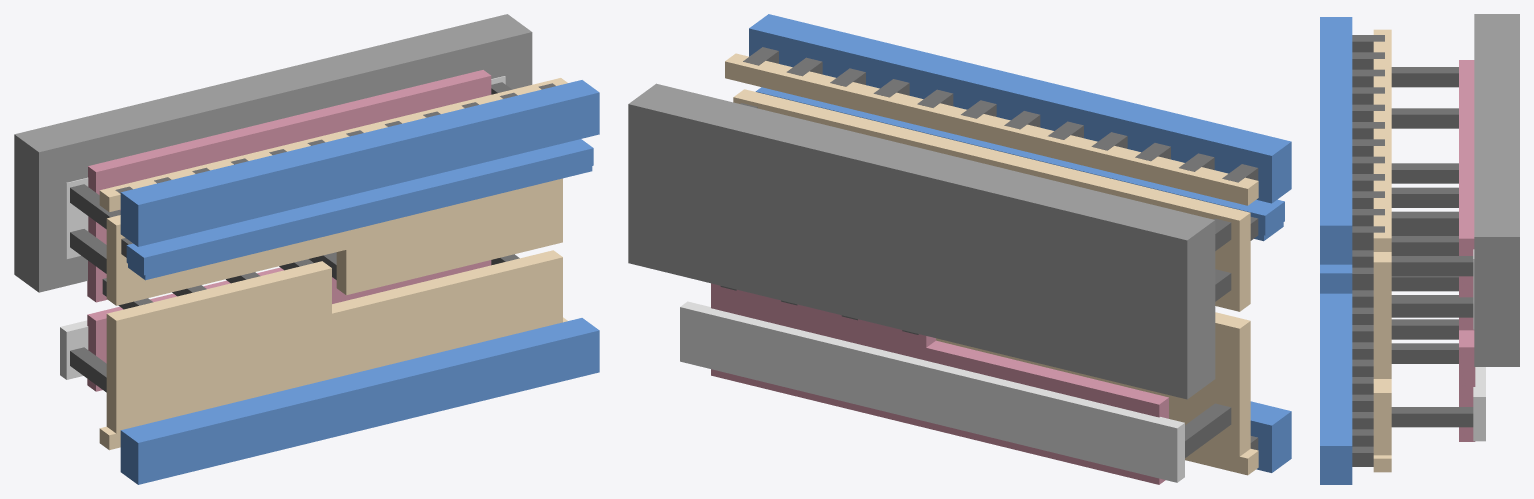
File: sky130_fd_sc_hd__lpflow_decapkapwr_12.gds.gltf
The picture shows the model from 3 angles, left to right: view 1: azimuth 30°, elevation 25°; view 2: azimuth 150°, elevation 25°; view 3: azimuth 270°, elevation 25°; orthographic projection. The views are drawn at different scales.
Parts seen in each view (by area): view 1: sky130_fd_sc_hd__lpflow_decapkapwr_12_met1, sky130_fd_sc_hd__lpflow_decapkapwr_12_li1, sky130_fd_sc_hd__lpflow_decapkapwr_12_nwell, sky130_fd_sc_hd__lpflow_decapkapwr_12_poly, sky130_fd_sc_hd__lpflow_decapkapwr_12_licon, sky130_fd_sc_hd__lpflow_decapkapwr_12_diff, sky130_fd_sc_hd__lpflow_decapkapwr_12_mcon; view 2: sky130_fd_sc_hd__lpflow_decapkapwr_12_nwell, sky130_fd_sc_hd__lpflow_decapkapwr_12_li1, sky130_fd_sc_hd__lpflow_decapkapwr_12_diff, sky130_fd_sc_hd__lpflow_decapkapwr_12_met1, sky130_fd_sc_hd__lpflow_decapkapwr_12_poly, sky130_fd_sc_hd__lpflow_decapkapwr_12_mcon, sky130_fd_sc_hd__lpflow_decapkapwr_12_licon; view 3: sky130_fd_sc_hd__lpflow_decapkapwr_12_licon, sky130_fd_sc_hd__lpflow_decapkapwr_12_nwell, sky130_fd_sc_hd__lpflow_decapkapwr_12_met1, sky130_fd_sc_hd__lpflow_decapkapwr_12_mcon, sky130_fd_sc_hd__lpflow_decapkapwr_12_li1, sky130_fd_sc_hd__lpflow_decapkapwr_12_poly, sky130_fd_sc_hd__lpflow_decapkapwr_12_diff.
Part boxes in pixels (x1,y1,x2,y2): sky130_fd_sc_hd__lpflow_decapkapwr_12_met1: (120, 80, 599, 484); sky130_fd_sc_hd__lpflow_decapkapwr_12_li1: (99, 78, 567, 450); sky130_fd_sc_hd__lpflow_decapkapwr_12_nwell: (14, 14, 532, 292); sky130_fd_sc_hd__lpflow_decapkapwr_12_poly: (87, 70, 491, 391); sky130_fd_sc_hd__lpflow_decapkapwr_12_licon: (70, 82, 519, 392); sky130_fd_sc_hd__lpflow_decapkapwr_12_diff: (60, 76, 505, 379); sky130_fd_sc_hd__lpflow_decapkapwr_12_mcon: (115, 83, 555, 257); sky130_fd_sc_hd__lpflow_decapkapwr_12_nwell: (628, 83, 1215, 399); sky130_fd_sc_hd__lpflow_decapkapwr_12_li1: (725, 53, 1258, 475); sky130_fd_sc_hd__lpflow_decapkapwr_12_diff: (680, 301, 1184, 482); sky130_fd_sc_hd__lpflow_decapkapwr_12_met1: (749, 14, 1291, 472); sky130_fd_sc_hd__lpflow_decapkapwr_12_poly: (711, 283, 1168, 484); sky130_fd_sc_hd__lpflow_decapkapwr_12_mcon: (743, 47, 1258, 450); sky130_fd_sc_hd__lpflow_decapkapwr_12_licon: (720, 103, 1231, 457); sky130_fd_sc_hd__lpflow_decapkapwr_12_licon: (1391, 67, 1473, 427); sky130_fd_sc_hd__lpflow_decapkapwr_12_nwell: (1474, 14, 1519, 366); sky130_fd_sc_hd__lpflow_decapkapwr_12_met1: (1320, 17, 1352, 484); sky130_fd_sc_hd__lpflow_decapkapwr_12_mcon: (1352, 35, 1384, 466); sky130_fd_sc_hd__lpflow_decapkapwr_12_li1: (1373, 29, 1391, 472); sky130_fd_sc_hd__lpflow_decapkapwr_12_poly: (1459, 60, 1475, 441); sky130_fd_sc_hd__lpflow_decapkapwr_12_diff: (1473, 249, 1485, 441).
Size of the model in its own units: 5.9 by 3.2 by 2.24.
